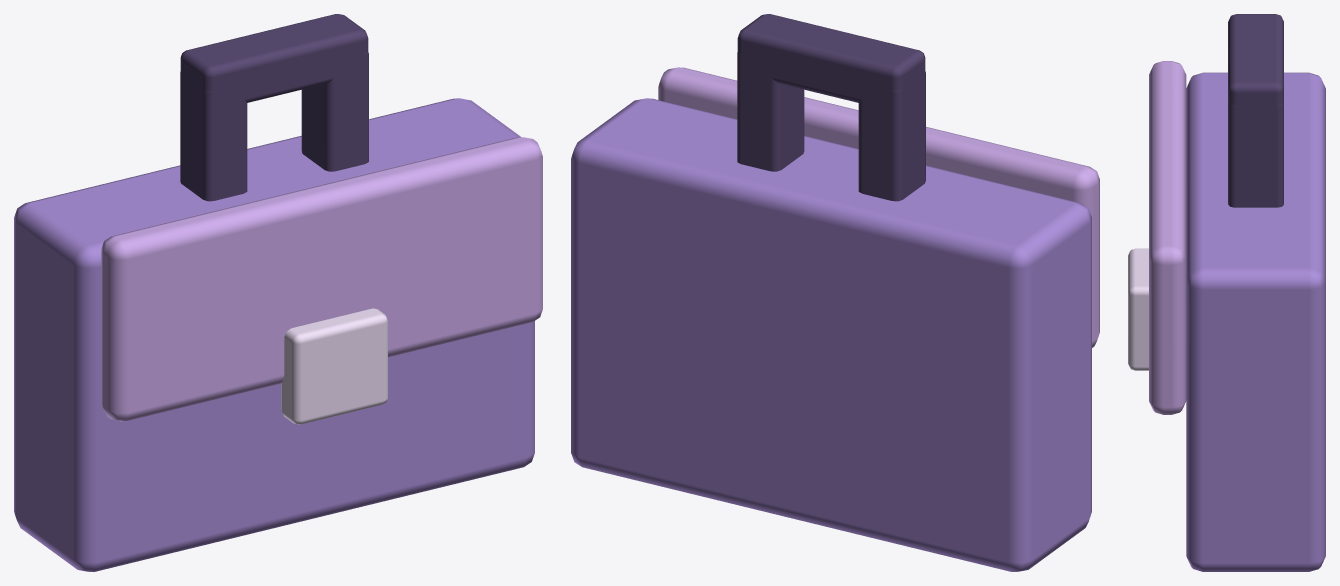
The model's file is office-briefcase.glb.
The picture shows the model from 3 angles, left to right: view 1: azimuth 30°, elevation 25°; view 2: azimuth 150°, elevation 25°; view 3: azimuth 270°, elevation 25°; orthographic projection. The views are drawn at different scales.
Parts seen in each view (by area): view 1: case, flap, handle-top, clasp, handle-left, handle-right; view 2: case, flap, handle-top, handle-left, handle-right; view 3: case, flap, handle-top, handle-right, clasp.
Part boxes in pixels (left/top/right/bottom): case: left=14, top=98, right=534, bottom=571; flap: left=101, top=137, right=542, bottom=421; handle-top: left=180, top=14, right=368, bottom=106; clasp: left=281, top=308, right=387, bottom=424; handle-left: left=180, top=72, right=247, bottom=201; handle-right: left=301, top=52, right=368, bottom=171; case: left=571, top=98, right=1091, bottom=571; flap: left=658, top=67, right=1099, bottom=347; handle-top: left=737, top=14, right=925, bottom=106; handle-left: left=858, top=71, right=925, bottom=201; handle-right: left=737, top=52, right=804, bottom=171; case: left=1186, top=72, right=1325, bottom=571; flap: left=1149, top=61, right=1186, bottom=414; handle-top: left=1228, top=14, right=1283, bottom=119; handle-right: left=1228, top=103, right=1283, bottom=207; clasp: left=1128, top=248, right=1148, bottom=370.
Bounding box in the file's own units: 1.06 × 1.01 × 0.425.
